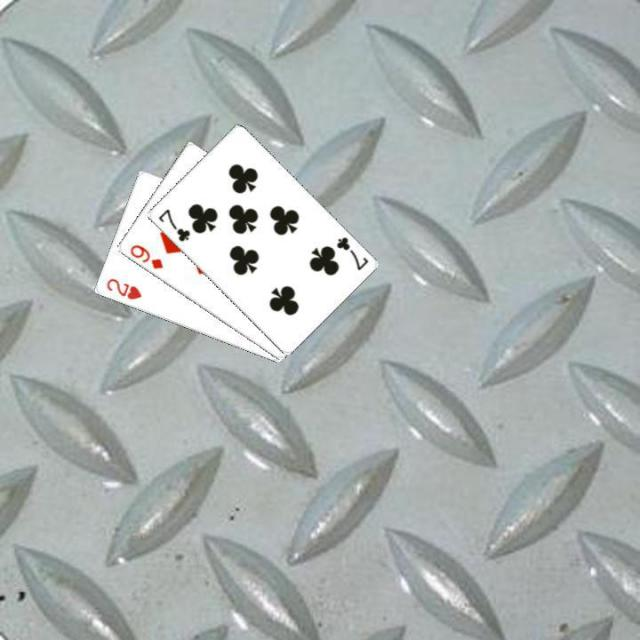2H: (102, 275, 143, 301)
7C: (332, 233, 369, 272), (154, 206, 192, 243)
9D: (126, 241, 164, 271)
